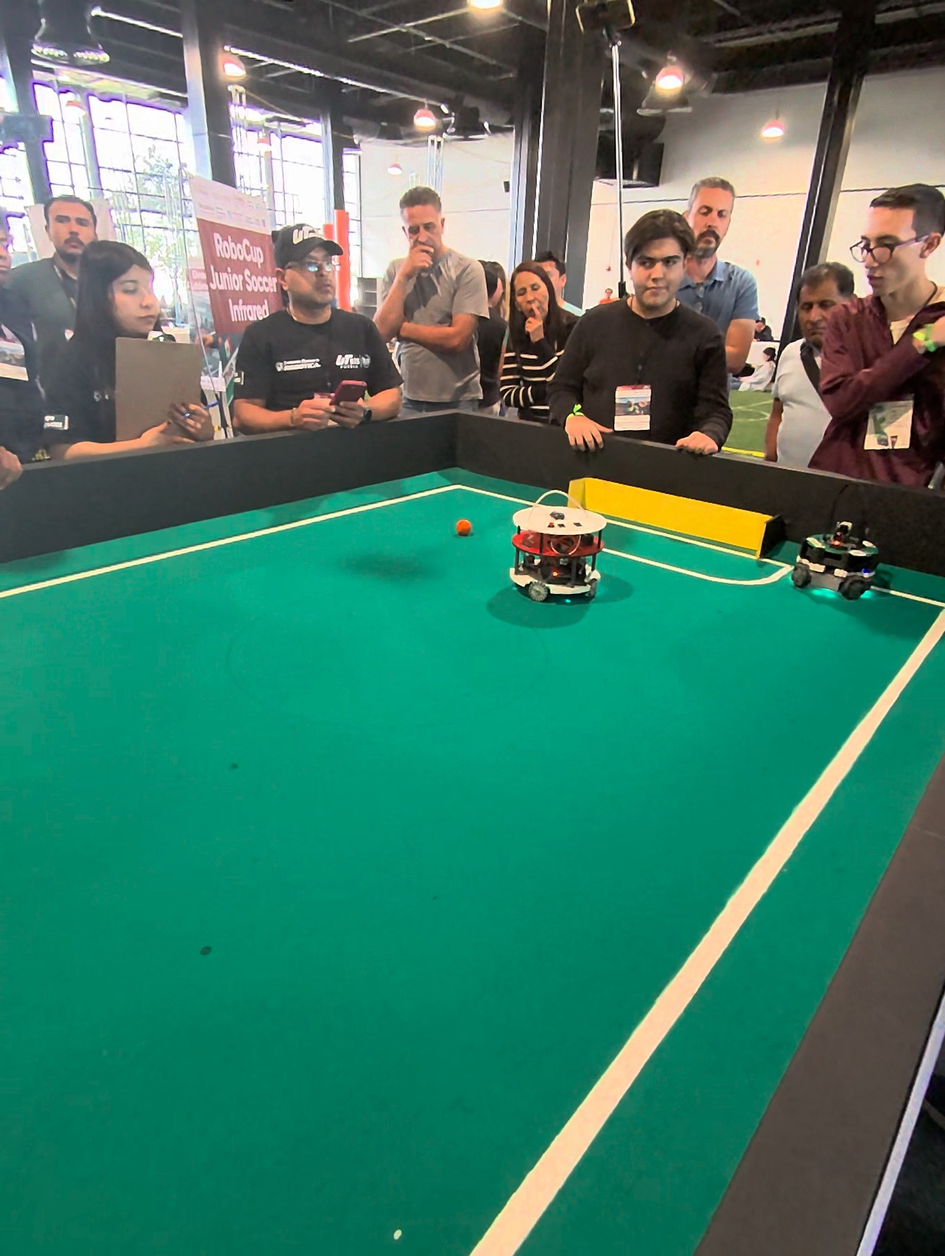Robot: (506, 486, 605, 618), (789, 485, 882, 610)
pelota: (433, 501, 488, 550)
